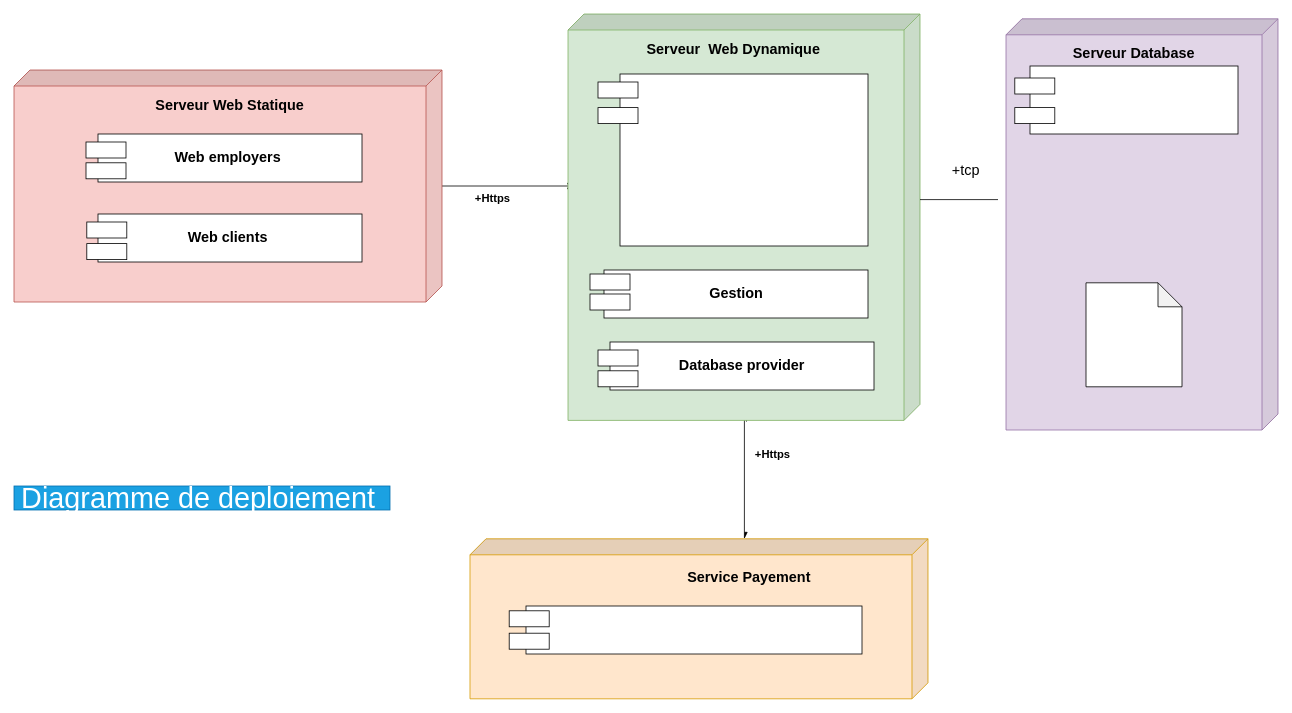
Some shapes in this 1292 by 713 pixel diagram are drawn without their labels. Here are the shapes that lost their labels. From the top down, the box of each, then its label:
(1029, 65, 1238, 134): PostgresSql
(619, 73, 868, 246): API
(525, 605, 862, 654): Payement
